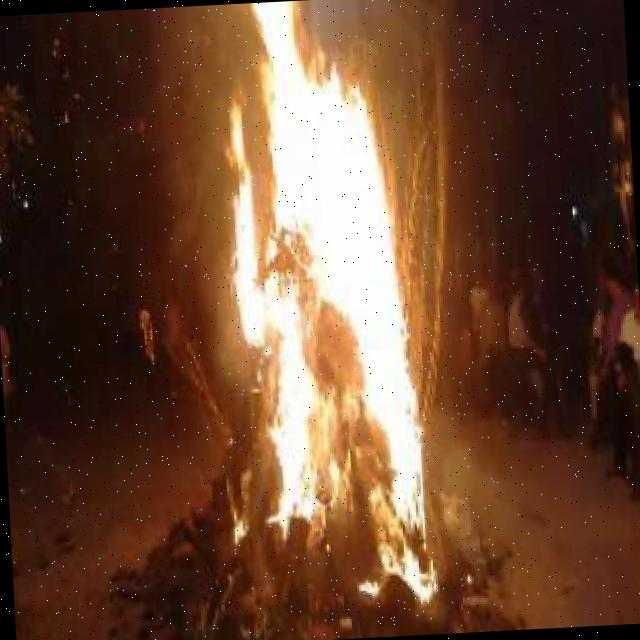fire: (186, 0, 434, 615)
